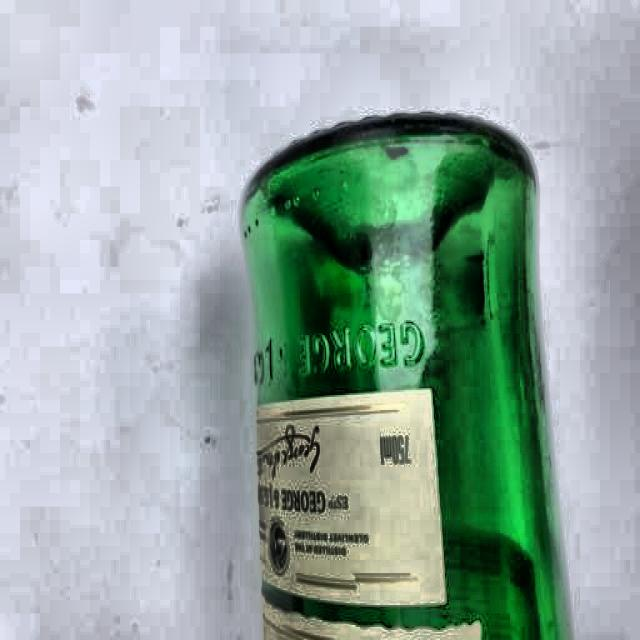glass: (235, 104, 583, 640)
